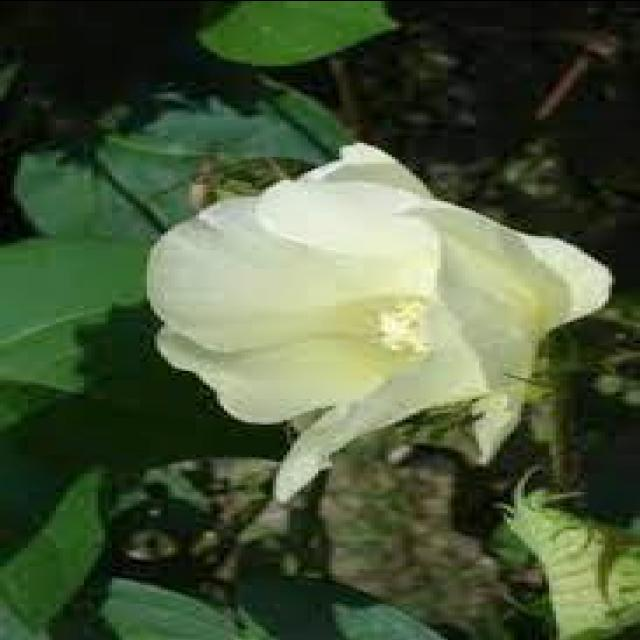Cotton Blossom: (139, 172, 583, 454)
